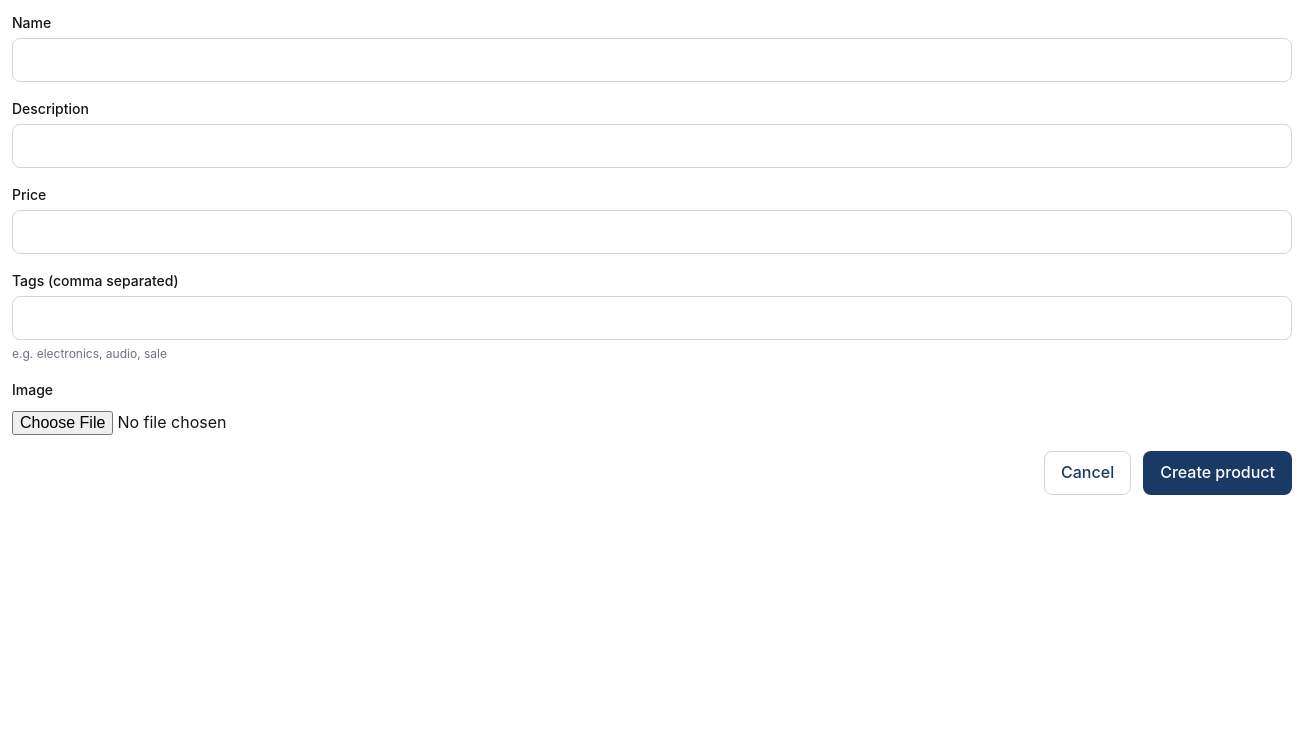
Test: ProductForm › shows a validation error for a negative price
Type "Test" into the field labelled "Name" at (652, 60), box 12,38 -> 1292,82
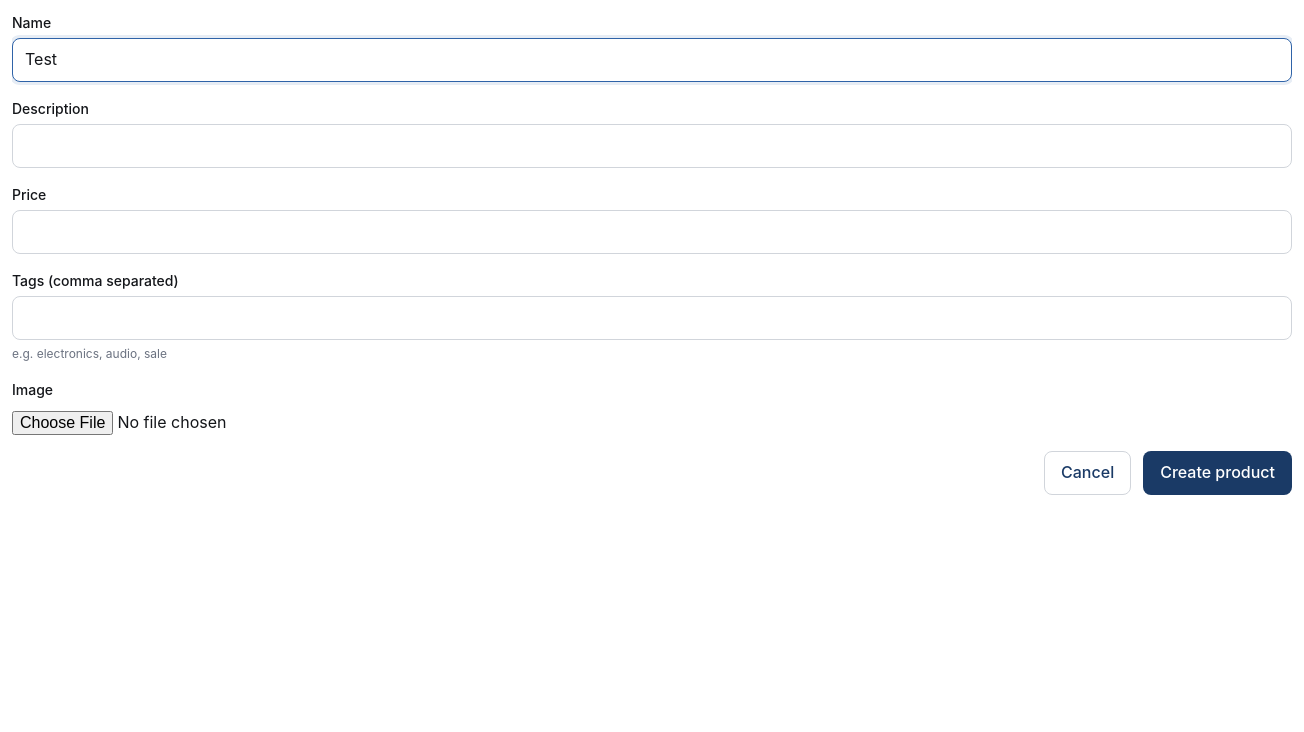
Type "desc" into the field labelled "Description" at (652, 146), box 12,124 -> 1292,168
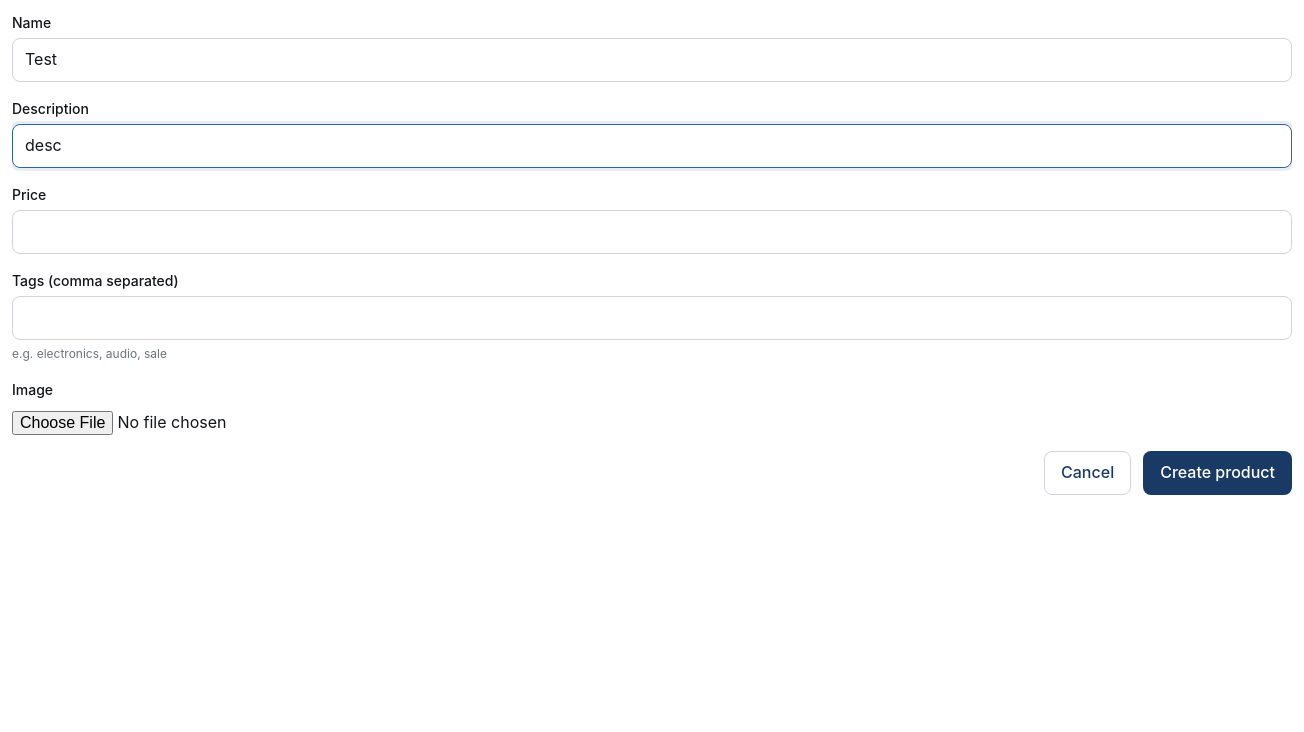
Type "-5" into the number field labelled "Price" at (652, 232), box 12,210 -> 1292,254
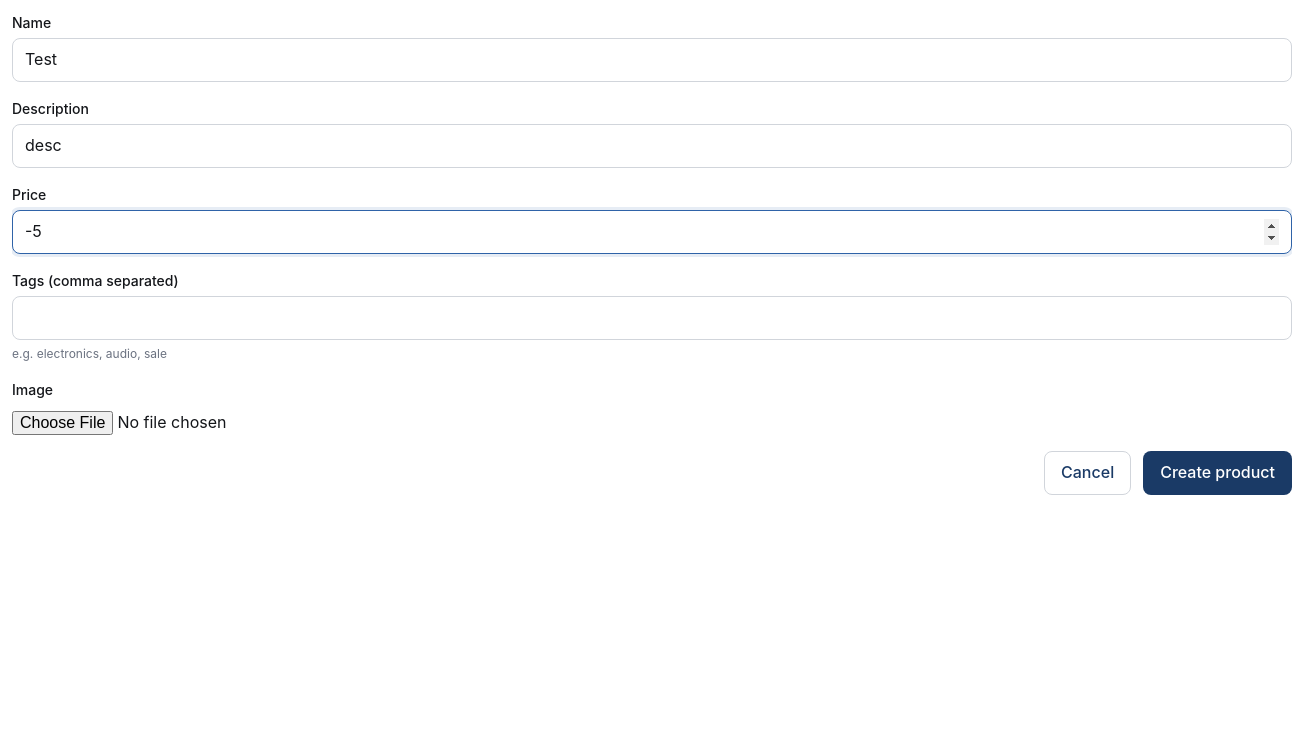
Click the button "Create product" at (1218, 473), box 1143,451 -> 1292,495
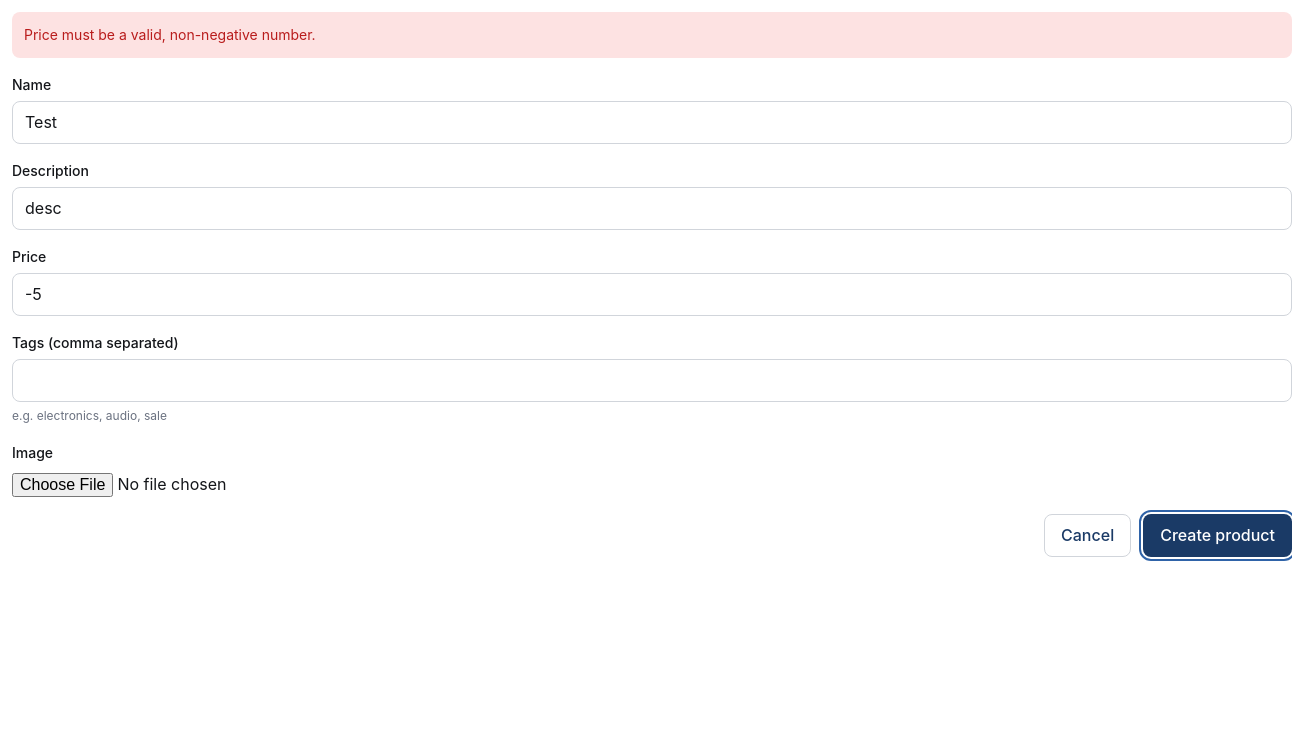
Expected: the message reads "Price must be a valid, non-negative number.", 24,26 -> 316,43
